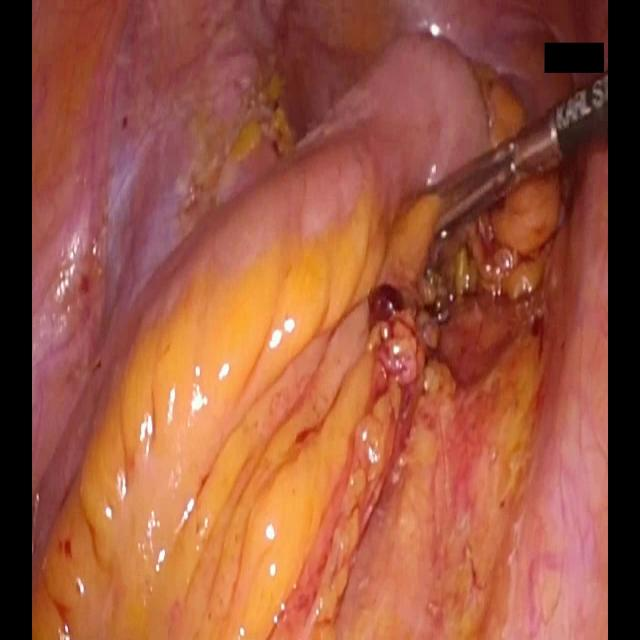surgical-area: (32, 0, 609, 639)
surgical-tool: (436, 69, 608, 236)
